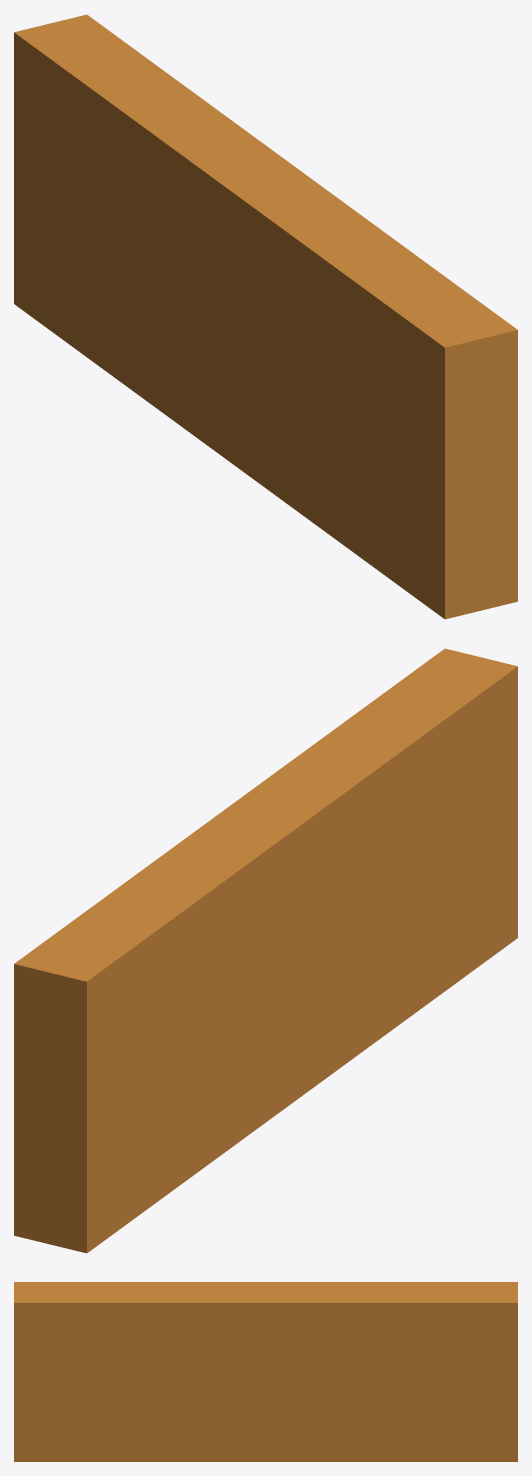
The picture shows the model from 3 angles, top to bottom: view 1: azimuth 30°, elevation 25°; view 2: azimuth 150°, elevation 25°; view 3: azimuth 270°, elevation 25°; orthographic projection. The views are drawn at different scales.
Visible parts, largest first — view 1: GF-A-OPEN-01-01-HEAD; view 2: GF-A-OPEN-01-01-HEAD; view 3: GF-A-OPEN-01-01-HEAD.
Part boxes in pixels (x1,y1,x2,y2): GF-A-OPEN-01-01-HEAD: (14,14,517,619); GF-A-OPEN-01-01-HEAD: (14,648,517,1253); GF-A-OPEN-01-01-HEAD: (14,1282,517,1461).
Bounding box in the file's own units: 0.09 × 0.32 × 0.92.
